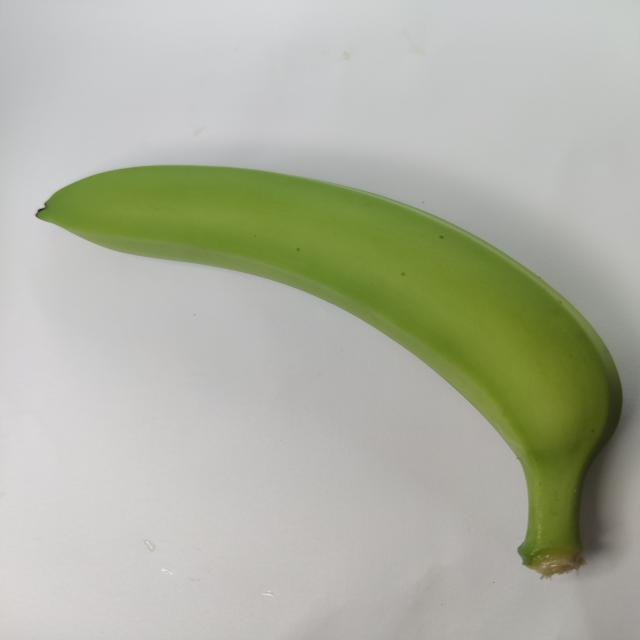raw: (13, 115, 639, 590)
